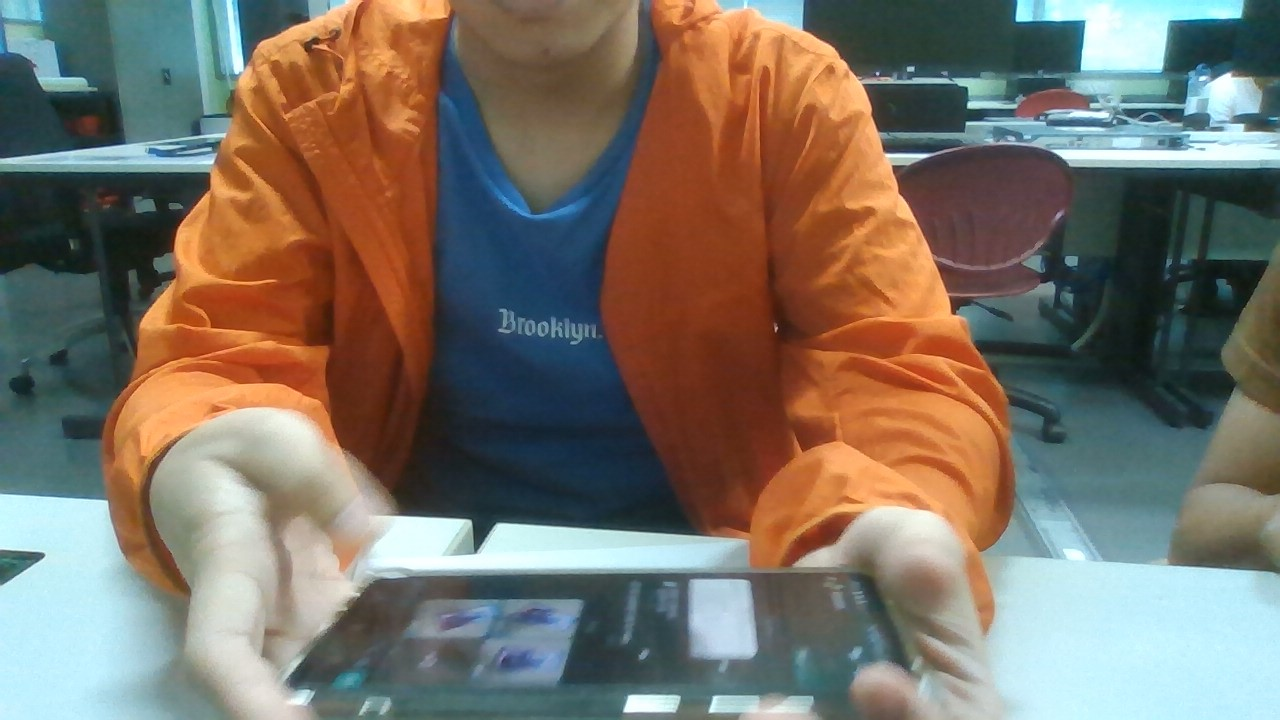phone: (288, 566, 934, 720)
